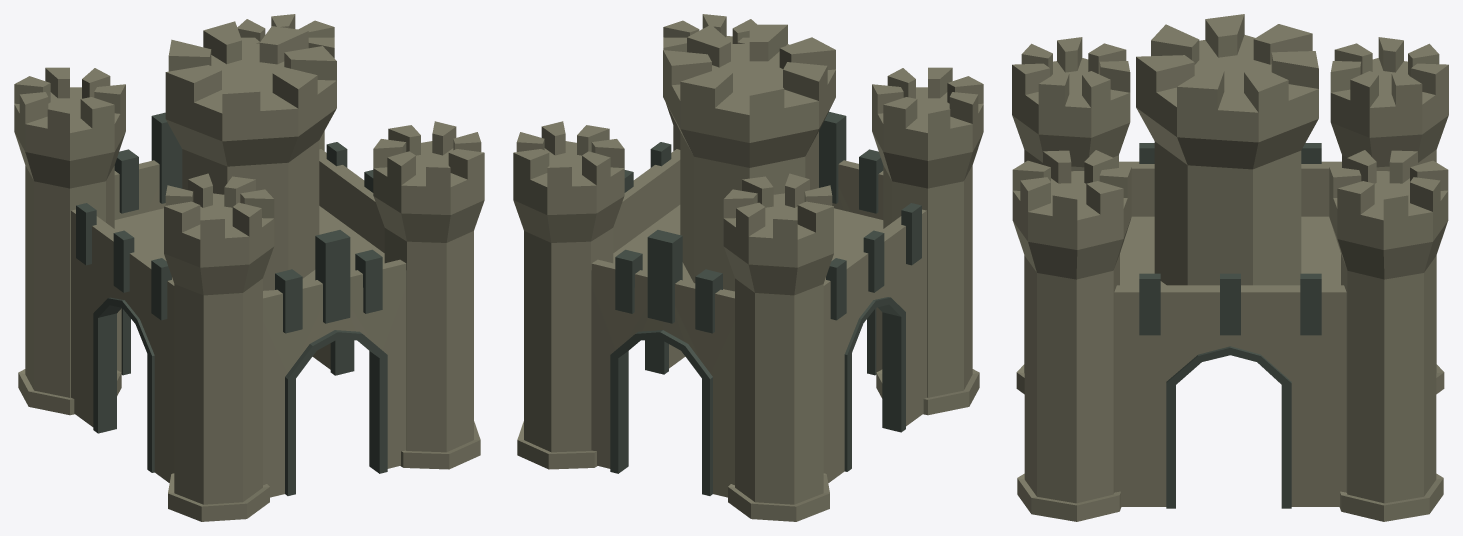
The model's file is Castle_2_lvl_mat.fbx.
3 views of the same model, side by side, from view 1: azimuth 30°, elevation 25°; view 2: azimuth 150°, elevation 25°; view 3: azimuth 270°, elevation 25° (orthographic). The views are drawn at different scales.
Visible parts, largest first — view 1: Castle_2_lvl_mat; view 2: Castle_2_lvl_mat; view 3: Castle_2_lvl_mat.
Boxes of the visible parts, x1,y1,x2,y2 form: Castle_2_lvl_mat: (14,14,484,521); Castle_2_lvl_mat: (513,14,983,521); Castle_2_lvl_mat: (1012,14,1448,521).
Bounding box in the file's own units: 4.67 × 5.2 × 5.3.
